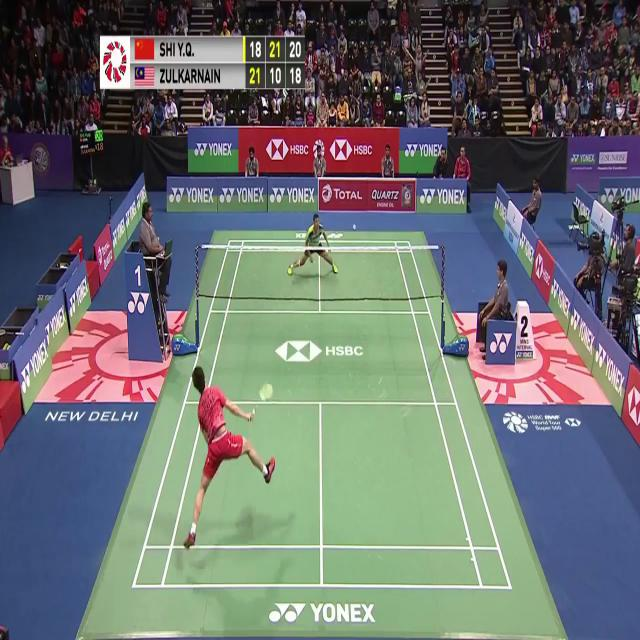Shuttlecock: (353, 220, 359, 232)
